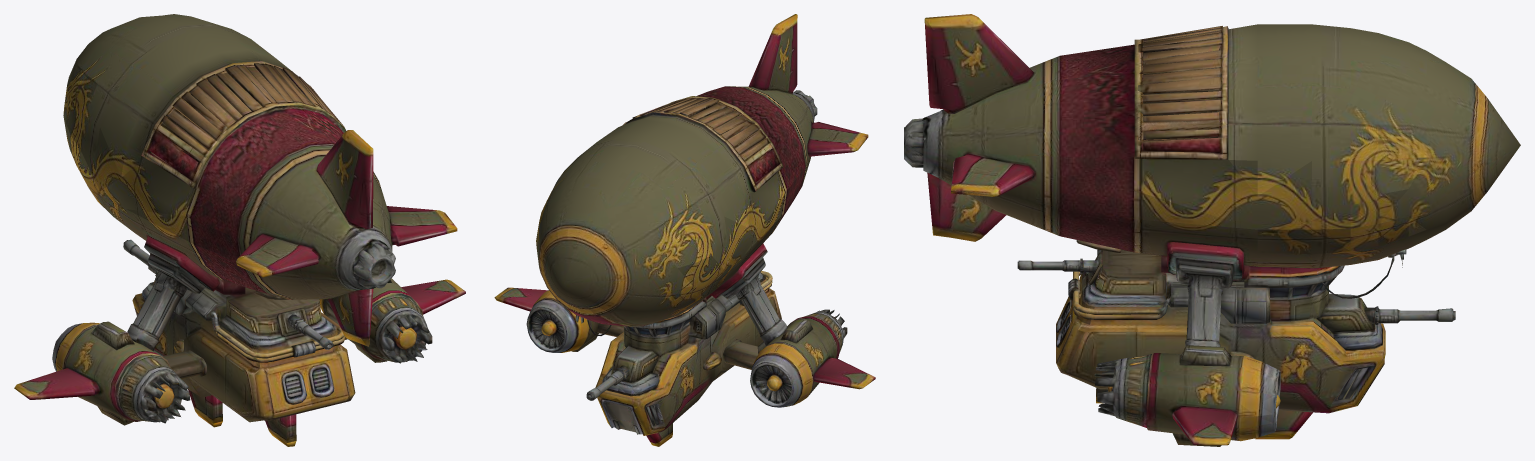
Rendered from scaffold_rig.glb.
The picture shows the model from 3 angles, left to right: view 1: azimuth 30°, elevation 25°; view 2: azimuth 150°, elevation 25°; view 3: azimuth 270°, elevation 25°; orthographic projection. The views are drawn at different scales.
Parts seen in each view (by area): view 1: Body, Trim; view 2: Body, Trim; view 3: Body, Trim.
Part boxes in pixels (<box>): Body: <box>15,14,465,442</box>; Trim: <box>14,66,465,446</box>; Body: <box>494,15,873,445</box>; Trim: <box>495,14,875,446</box>; Body: <box>904,18,1520,446</box>; Trim: <box>925,14,1486,445</box>.
Bounding box in the file's own units: 15.84 × 13.53 × 17.87.
Materials: 2 (2 with a texture image).
